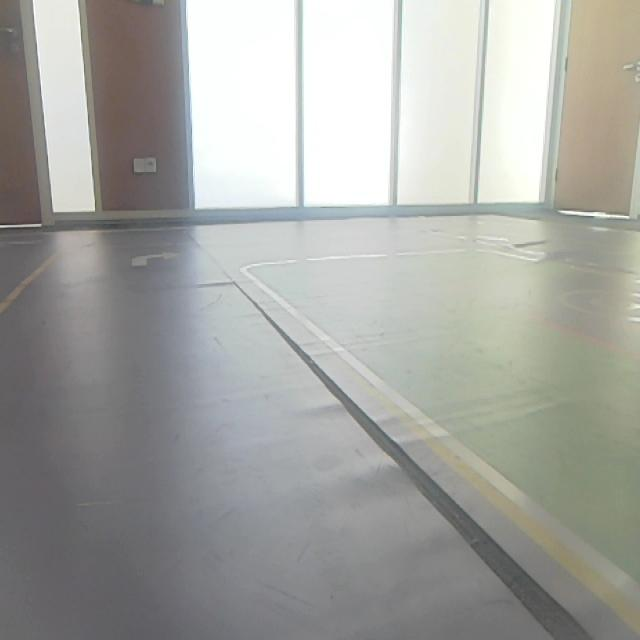left_lane: (0, 249, 62, 318)
right_lane: (247, 270, 640, 630)
